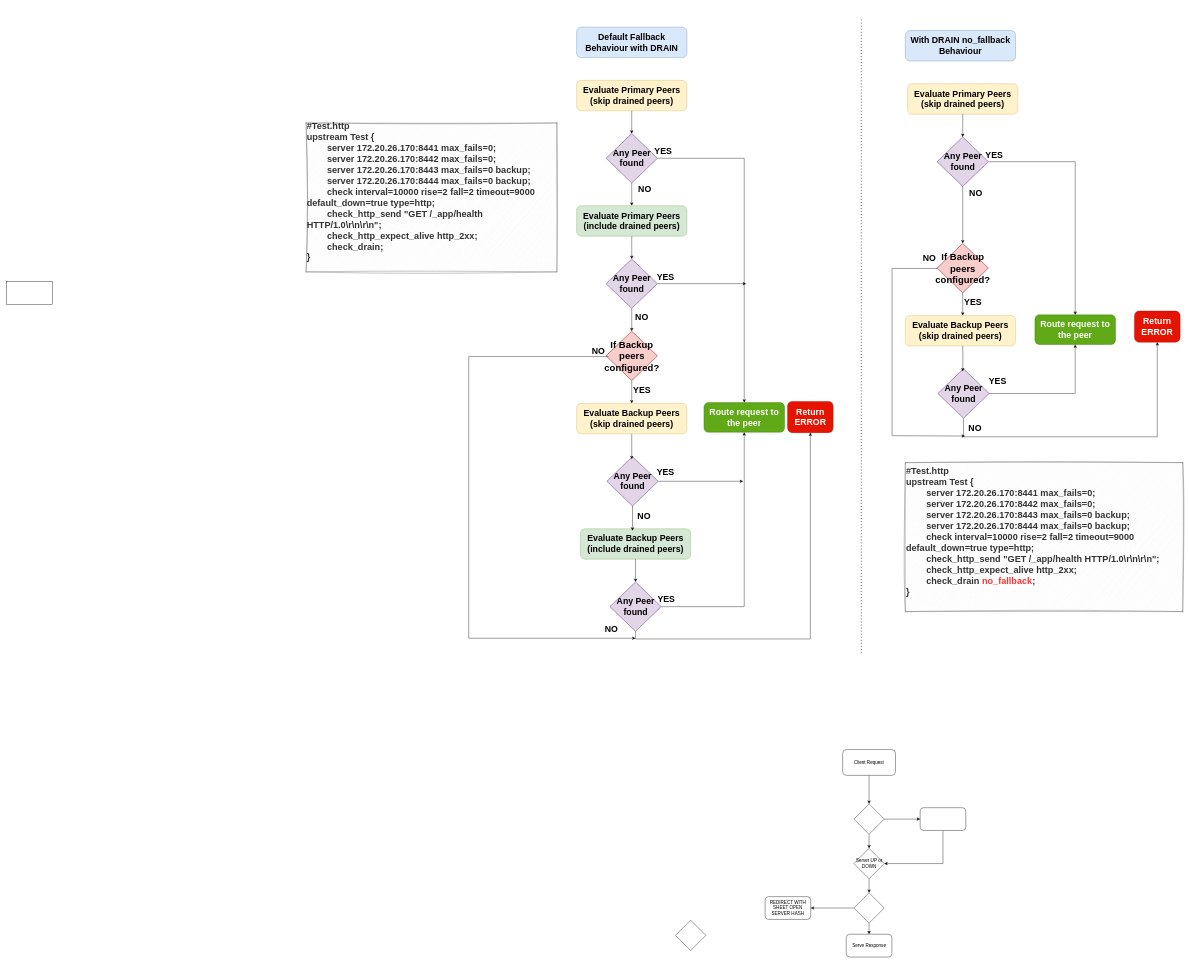
This 1189x964 diagram has some shape labels left out. Here are the shapes that lost their labels. From the top down, the centre of each, then its label:
At point 868,819: "Is hash present".
At point 943,818: "Pick server using weighted RR".
At point 868,907: "App. server has sheet open".
